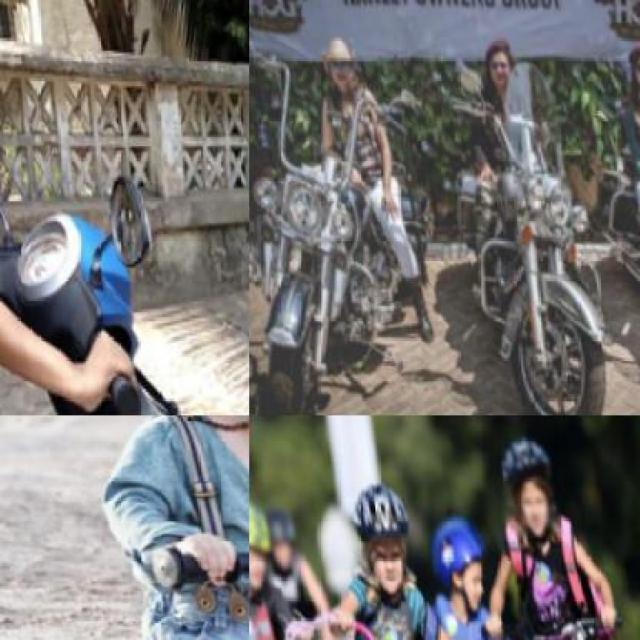With Helmet: (340, 472, 418, 602), (422, 508, 491, 620), (495, 428, 562, 540), (257, 501, 298, 572), (250, 492, 272, 598)
Without Helmet: (312, 25, 356, 90), (475, 34, 517, 89), (620, 38, 638, 92)
